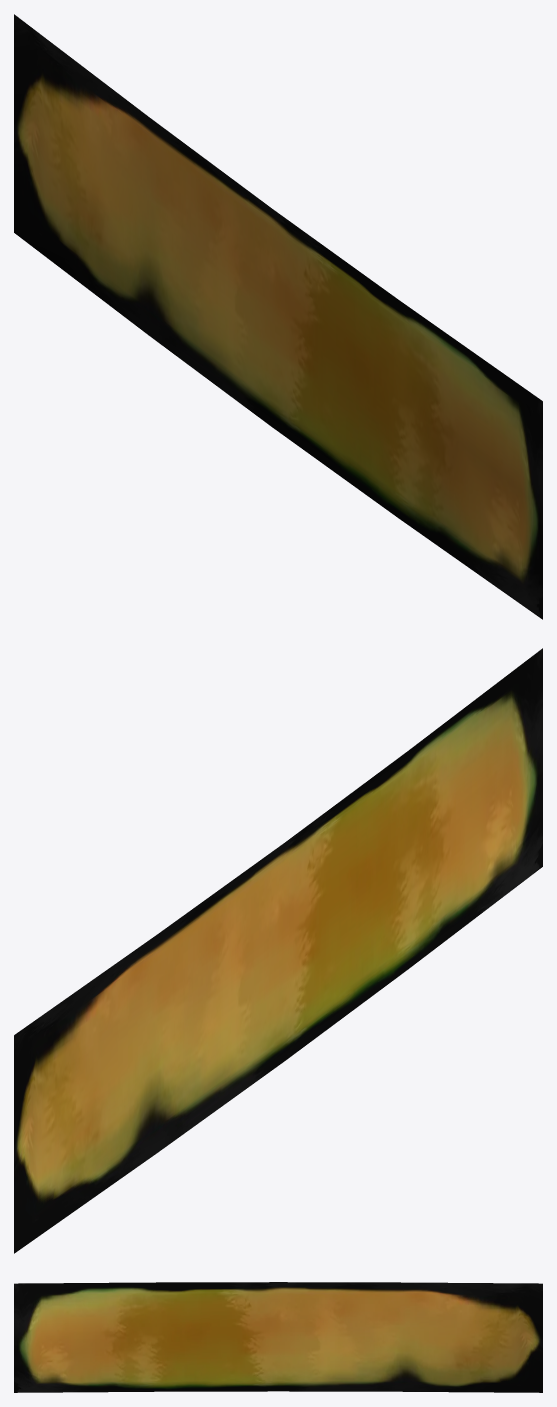
The model's file is pm-cloud-04.glb.
The picture shows the model from 3 angles, top to bottom: view 1: azimuth 30°, elevation 25°; view 2: azimuth 150°, elevation 25°; view 3: azimuth 270°, elevation 25°; orthographic projection. The views are drawn at different scales.
Visible parts, largest first — view 1: Cloud04; view 2: Cloud04; view 3: Cloud04.
Boxes of the visible parts, box(x1,y1,x2,y2) form: Cloud04: box(14, 14, 542, 619); Cloud04: box(14, 648, 542, 1253); Cloud04: box(14, 1282, 542, 1392).
Size of the model in its own units: 0.0562 by 1.27 by 5.55.
1 material, 1 textured.
